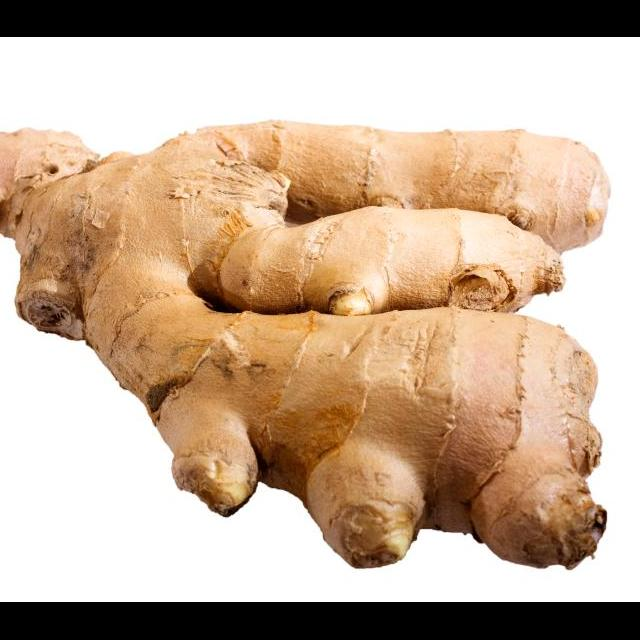ginger: (0, 126, 605, 563)
